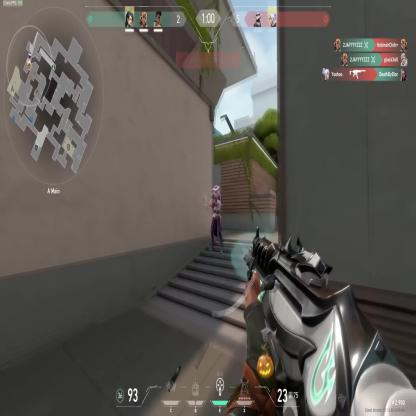enemy: (207, 181, 224, 253)
enemy_head: (213, 185, 219, 195)
